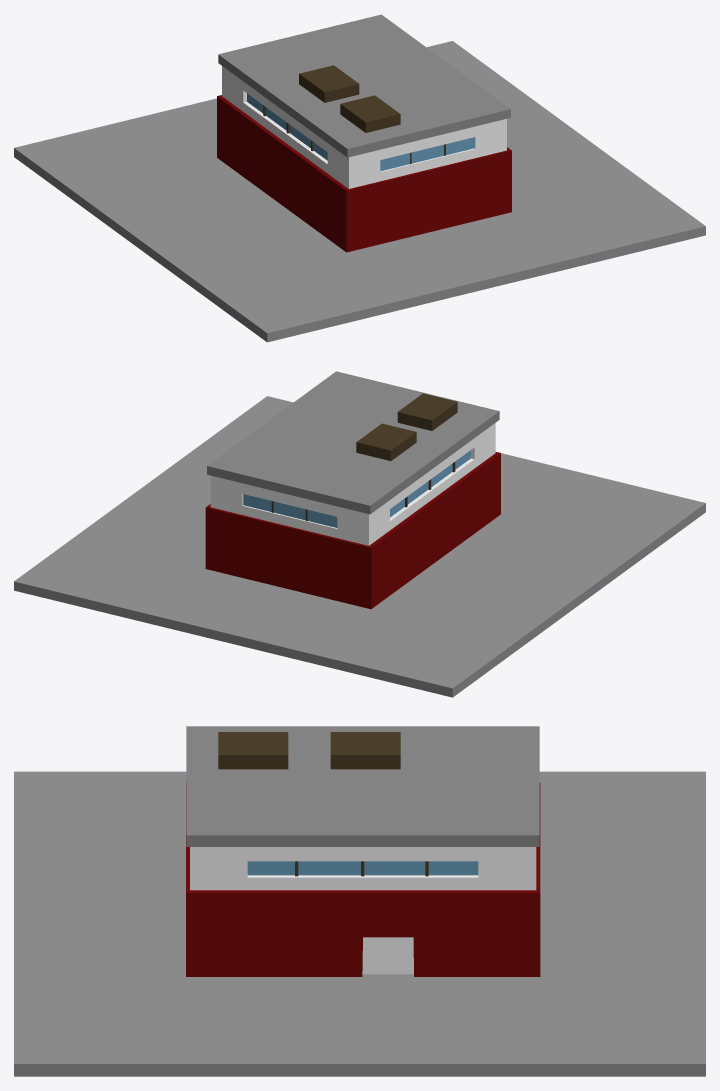
Rendered from Fabryka I.FBX.
3 renders of one model, top to bottom at view 1: azimuth 30°, elevation 25°; view 2: azimuth 150°, elevation 25°; view 3: azimuth 270°, elevation 25°, orthographic. The views are drawn at different scales.
Visible parts, largest first — view 1: Plane001, Box004, Box002, Box001, Box003, Box006, Box005; view 2: Plane001, Box004, Box002, Box001, Box003, Box006, Box005; view 3: Plane001, Box004, Box002, Box001, Box003, Box005, Box006.
Part boxes in pixels (x1,y1,x2,y2): Plane001: (14,41,705,342); Box004: (218,14,510,157); Box002: (217,95,511,252); Box001: (222,66,506,188); Box003: (247,93,474,171); Box006: (299,65,359,102); Box005: (340,95,400,132); Plane001: (14,396,705,697); Box004: (207,371,499,514); Box002: (205,452,500,609); Box001: (210,423,495,545); Box003: (243,450,470,527); Box006: (356,423,416,460); Box005: (397,393,457,430); Plane001: (14,771,705,1076); Box004: (186,726,539,846); Box002: (186,783,540,976); Box001: (190,847,536,974); Box003: (247,861,478,875); Box005: (218,732,288,769); Box006: (330,732,400,769).
Size of the model in its own units: 1 by 0.2677 by 1.
